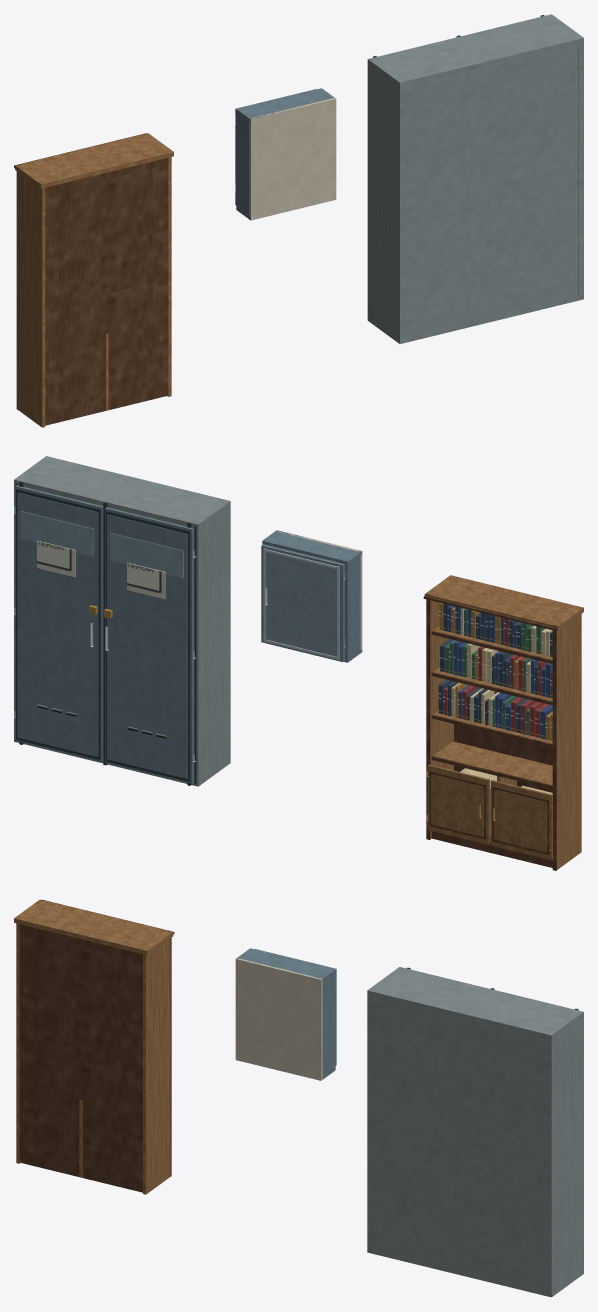
3 views of the same model, one above another, from view 1: azimuth 30°, elevation 25°; view 2: azimuth 150°, elevation 25°; view 3: azimuth 330°, elevation 25° (orthographic).
Visible parts, largest first — view 1: VIS_archive_VIS_Back_Stiffened_powder_grey_RIG_ROOT, VIS_bookcase_VIS_Backboard_oak_edge_RIG_ROOT, VIS_archive_VIS_Side_Enclosures_powder_grey_RIG_ROOT, VIS_medicine_VIS_Rear_Housing_cream_laminate_RIG_ROOT, VIS_archive_VIS_Top_Bottom_Housing_powder_grey_RIG_ROOT, VIS_bookcase_VIS_Carcass_Sides_oak_RIG_ROOT, VIS_bookcase_VIS_Top_Panel_oak_RIG_ROOT, VIS_medicine_VIS_Steel_Side_Shell_powder_blue_RIG_ROOT, VIS_medicine_VIS_Steel_Top_Bottom_powder_blue_RIG_ROOT; view 2: VIS_archive_VIS_Door_Recessed_Panel_powder_blue_HINGE_Door_R, VIS_archive_VIS_Door_Recessed_Panel_powder_blue_HINGE_Door_L, VIS_archive_VIS_Side_Enclosures_powder_grey_RIG_ROOT, VIS_bookcase_VIS_Carcass_Sides_oak_RIG_ROOT, VIS_archive_VIS_Top_Bottom_Housing_powder_grey_RIG_ROOT, VIS_medicine_VIS_Mirror_Pane_mirror_HINGE_Door_Mirror, VIS_bookcase_VIS_Top_Panel_oak_RIG_ROOT, VIS_bookcase_VIS_Adjustable_Shelves_oak_RIG_ROOT, VIS_bookcase_VIS_Door_Recess_oak_HINGE_Door_Left, VIS_bookcase_VIS_Door_Recess_oak_HINGE_Door_Right, VIS_bookcase_VIS_Shelf_Front_Banding_oak_edge_RIG_ROOT, VIS_archive_VIS_Front_Title_Plate_label_archives_HINGE_Door_ (×2) (+33 smaller); view 3: VIS_archive_VIS_Back_Stiffened_powder_grey_RIG_ROOT, VIS_bookcase_VIS_Backboard_oak_edge_RIG_ROOT, VIS_archive_VIS_Side_Enclosures_powder_grey_RIG_ROOT, VIS_medicine_VIS_Rear_Housing_cream_laminate_RIG_ROOT, VIS_archive_VIS_Top_Bottom_Housing_powder_grey_RIG_ROOT, VIS_bookcase_VIS_Carcass_Sides_oak_RIG_ROOT, VIS_bookcase_VIS_Top_Panel_oak_RIG_ROOT, VIS_medicine_VIS_Steel_Side_Shell_powder_blue_RIG_ROOT, VIS_medicine_VIS_Steel_Top_Bottom_powder_blue_RIG_ROOT.
Part boxes in pixels (x1,y1,x2,y2): VIS_archive_VIS_Back_Stiffened_powder_grey_RIG_ROOT: [405, 44, 578, 337]; VIS_bookcase_VIS_Backboard_oak_edge_RIG_ROOT: [45, 158, 168, 423]; VIS_archive_VIS_Side_Enclosures_powder_grey_RIG_ROOT: [367, 38, 583, 338]; VIS_medicine_VIS_Rear_Housing_cream_laminate_RIG_ROOT: [249, 98, 336, 220]; VIS_archive_VIS_Top_Bottom_Housing_powder_grey_RIG_ROOT: [368, 14, 583, 343]; VIS_bookcase_VIS_Carcass_Sides_oak_RIG_ROOT: [17, 134, 171, 427]; VIS_bookcase_VIS_Top_Panel_oak_RIG_ROOT: [15, 133, 173, 188]; VIS_medicine_VIS_Steel_Side_Shell_powder_blue_RIG_ROOT: [236, 88, 335, 215]; VIS_medicine_VIS_Steel_Top_Bottom_powder_blue_RIG_ROOT: [236, 88, 331, 220]; VIS_archive_VIS_Door_Recessed_Panel_powder_blue_HINGE_Door_R: [17, 492, 98, 756]; VIS_archive_VIS_Door_Recessed_Panel_powder_blue_HINGE_Door_L: [107, 514, 187, 778]; VIS_archive_VIS_Side_Enclosures_powder_grey_RIG_ROOT: [14, 480, 230, 786]; VIS_bookcase_VIS_Carcass_Sides_oak_RIG_ROOT: [428, 584, 581, 869]; VIS_archive_VIS_Top_Bottom_Housing_powder_grey_RIG_ROOT: [14, 456, 230, 786]; VIS_medicine_VIS_Mirror_Pane_mirror_HINGE_Door_Mirror: [265, 552, 336, 656]; VIS_bookcase_VIS_Top_Panel_oak_RIG_ROOT: [424, 575, 583, 630]; VIS_bookcase_VIS_Adjustable_Shelves_oak_RIG_ROOT: [433, 626, 552, 784]; VIS_bookcase_VIS_Door_Recess_oak_HINGE_Door_Left: [494, 789, 546, 852]; VIS_bookcase_VIS_Door_Recess_oak_HINGE_Door_Right: [431, 774, 483, 836]; VIS_bookcase_VIS_Shelf_Front_Banding_oak_edge_RIG_ROOT: [431, 630, 552, 789]; VIS_archive_VIS_Front_Title_Plate_label_archives_HINGE_Door_ (×2): [37, 540, 165, 599]; VIS_archive_VIS_Back_Stiffened_powder_grey_RIG_ROOT: [372, 997, 546, 1290]; VIS_bookcase_VIS_Backboard_oak_edge_RIG_ROOT: [19, 924, 142, 1190]; VIS_archive_VIS_Side_Enclosures_powder_grey_RIG_ROOT: [367, 990, 583, 1296]; VIS_medicine_VIS_Rear_Housing_cream_laminate_RIG_ROOT: [235, 958, 322, 1080]; VIS_archive_VIS_Top_Bottom_Housing_powder_grey_RIG_ROOT: [367, 967, 583, 1297]; VIS_bookcase_VIS_Carcass_Sides_oak_RIG_ROOT: [16, 900, 170, 1194]; VIS_bookcase_VIS_Top_Panel_oak_RIG_ROOT: [14, 899, 173, 955]; VIS_medicine_VIS_Steel_Side_Shell_powder_blue_RIG_ROOT: [236, 951, 335, 1075]; VIS_medicine_VIS_Steel_Top_Bottom_powder_blue_RIG_ROOT: [239, 948, 335, 1079].
Size of the model in its own units: 4.93 by 2.28 by 0.626.
22 materials, 22 textured.
